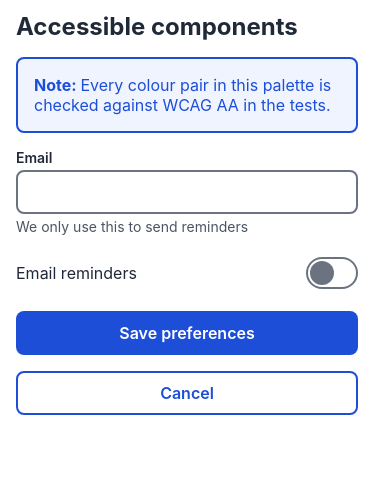
Test: the example form › hides "Preferences saved" again once the email is edited
In the field named "Email": [187, 192] box [16,170,358,214], type "alex@mail.com"
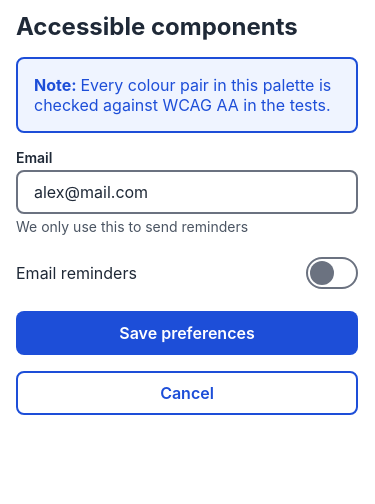
Click the button "Save preferences": [187, 333] box [16,311,358,355]
Wait 1200 ms
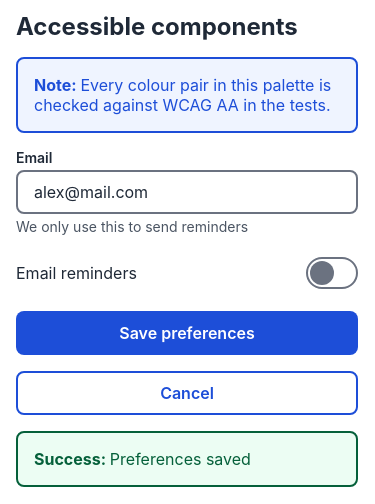
Replace the text in the field named "Email" with "alex@mail.co": [187, 192] box [16,170,358,214]
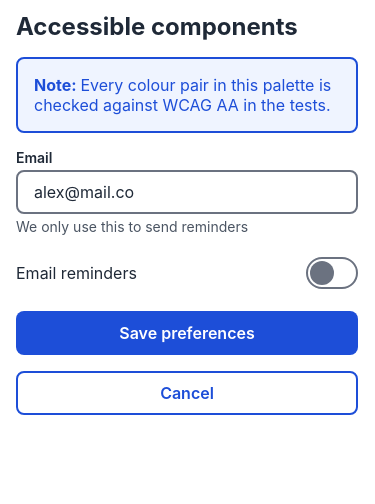
Result: the text "Preferences saved" is gone
